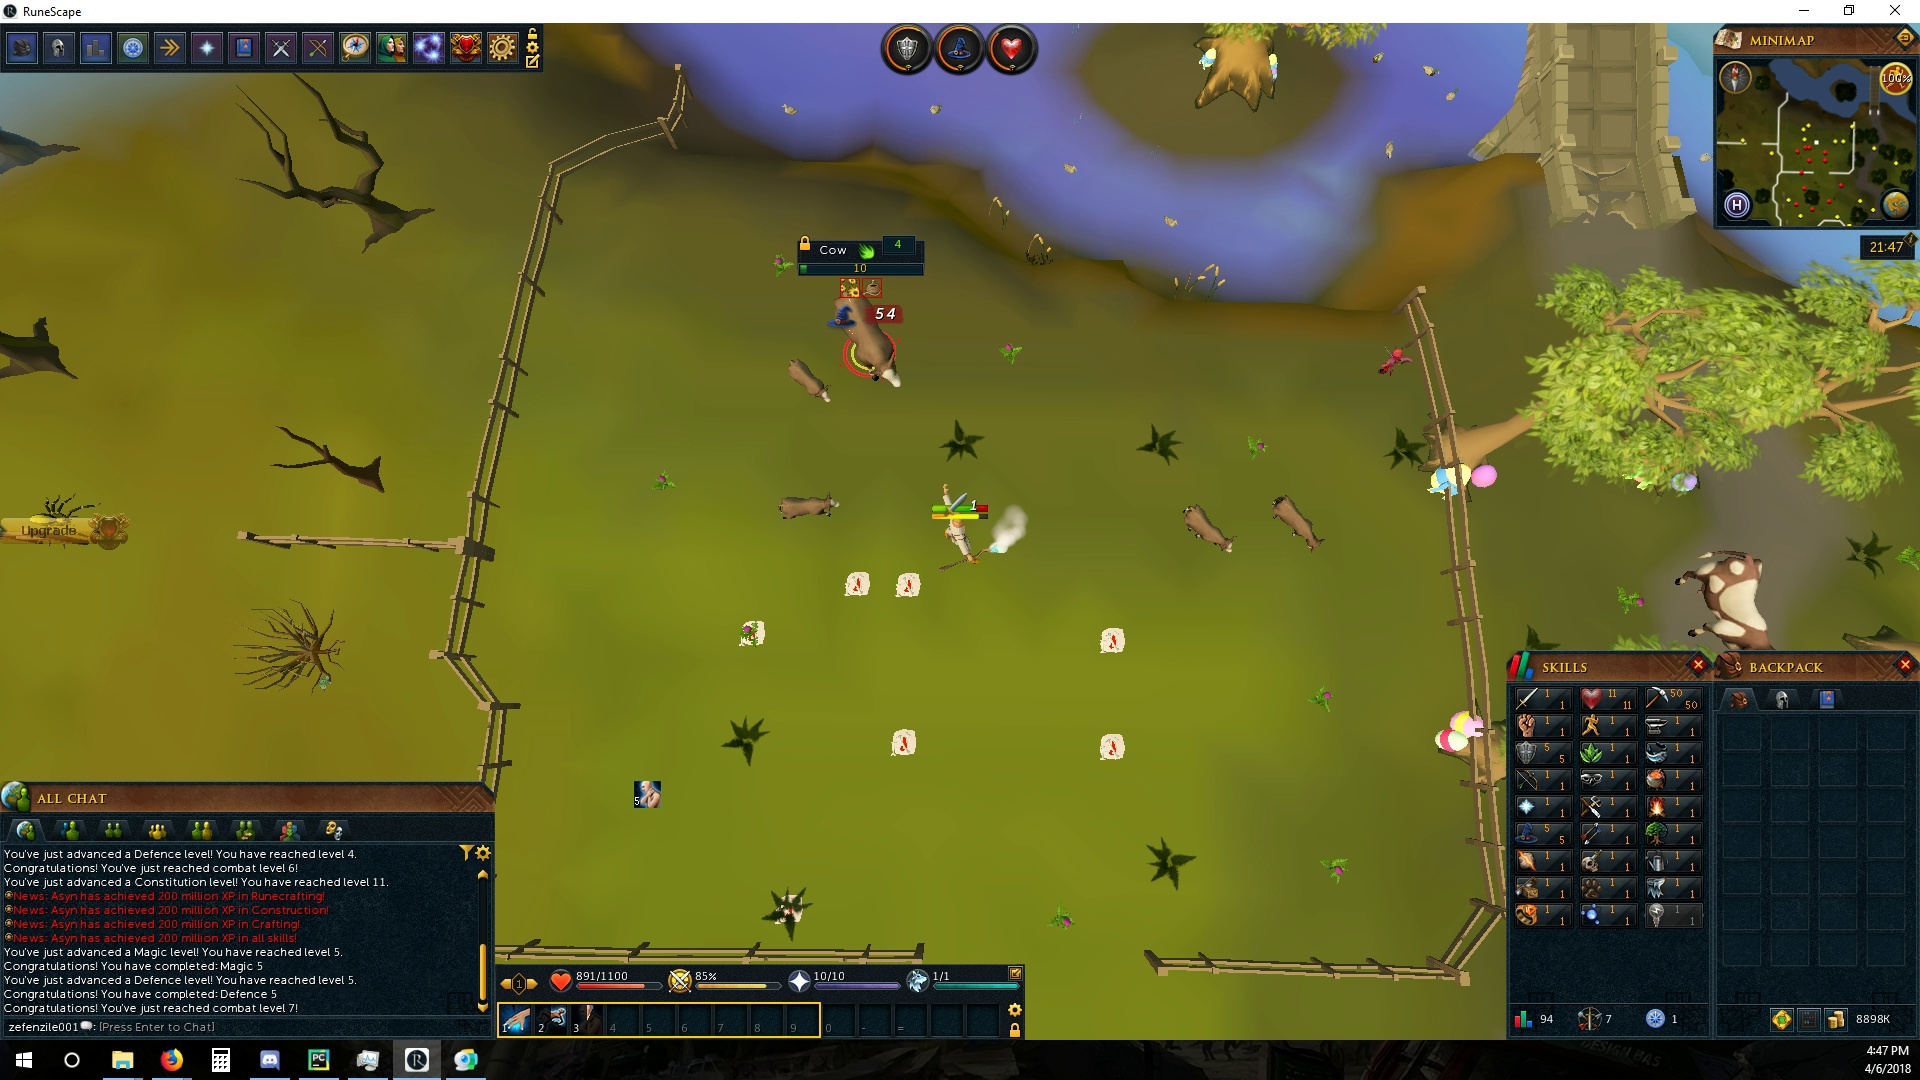calf: (1179, 502, 1240, 559), (1270, 495, 1327, 554), (785, 357, 837, 404), (773, 495, 840, 524)
cow: (1675, 549, 1774, 650), (832, 290, 905, 390)
cow_drop: (737, 618, 771, 650), (886, 728, 919, 760), (1095, 626, 1127, 658), (840, 570, 876, 597), (1095, 733, 1124, 760), (895, 571, 922, 597)
